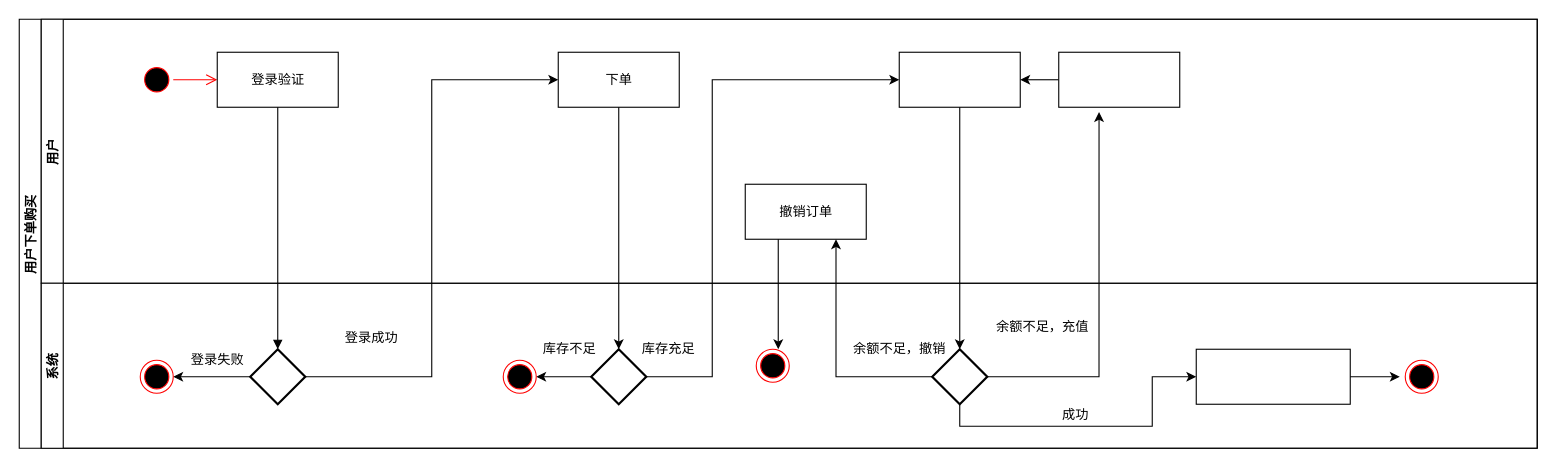
Some shapes in this 1557 by 476 pixel diagram are drawn without their labels. The centre of each missing label's shape, as x and y in pixels:
充值: [1119,79]
支付订单: [959,79]
订单状态变化，余额变化: [1272,376]
